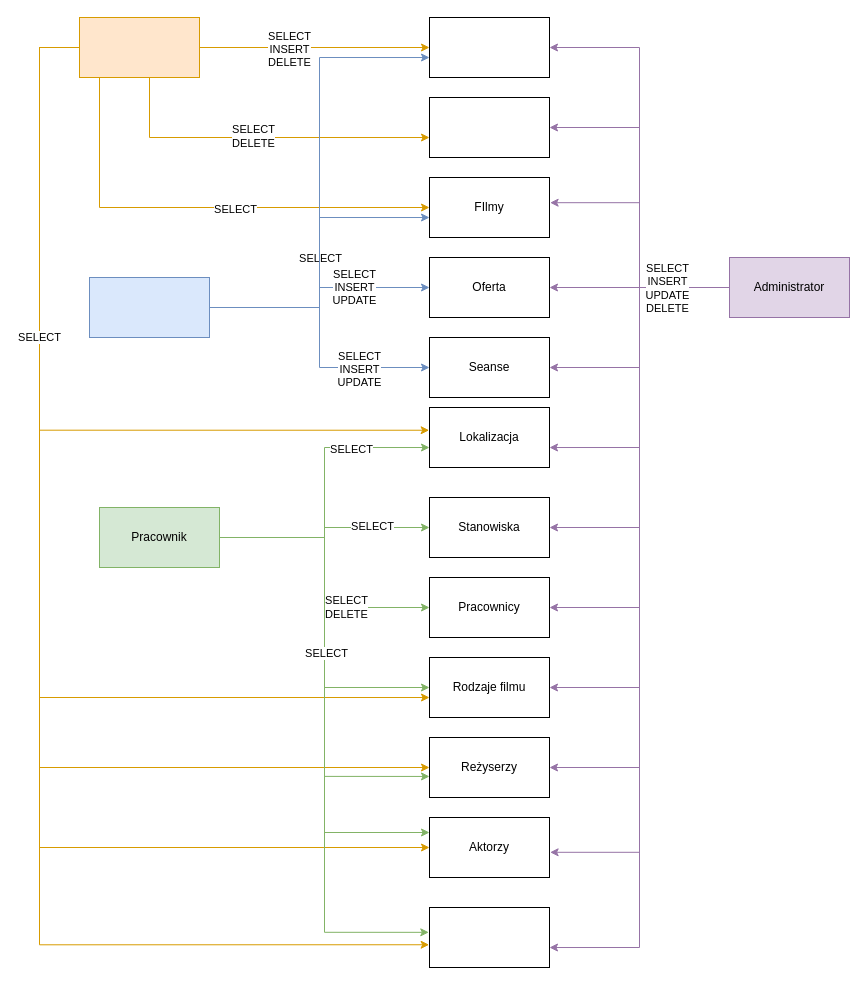
Image size: 867x985. Some labels were removed from this diagram. The centre of each missing label's shape, as x and y in pixels:
"Kina" goes at pixel 489 937.
"Klienci" goes at pixel 489 127.
"Klient" goes at pixel 139 47.
"System" goes at pixel 149 307.
"Zamówienia" goes at pixel 489 47.
